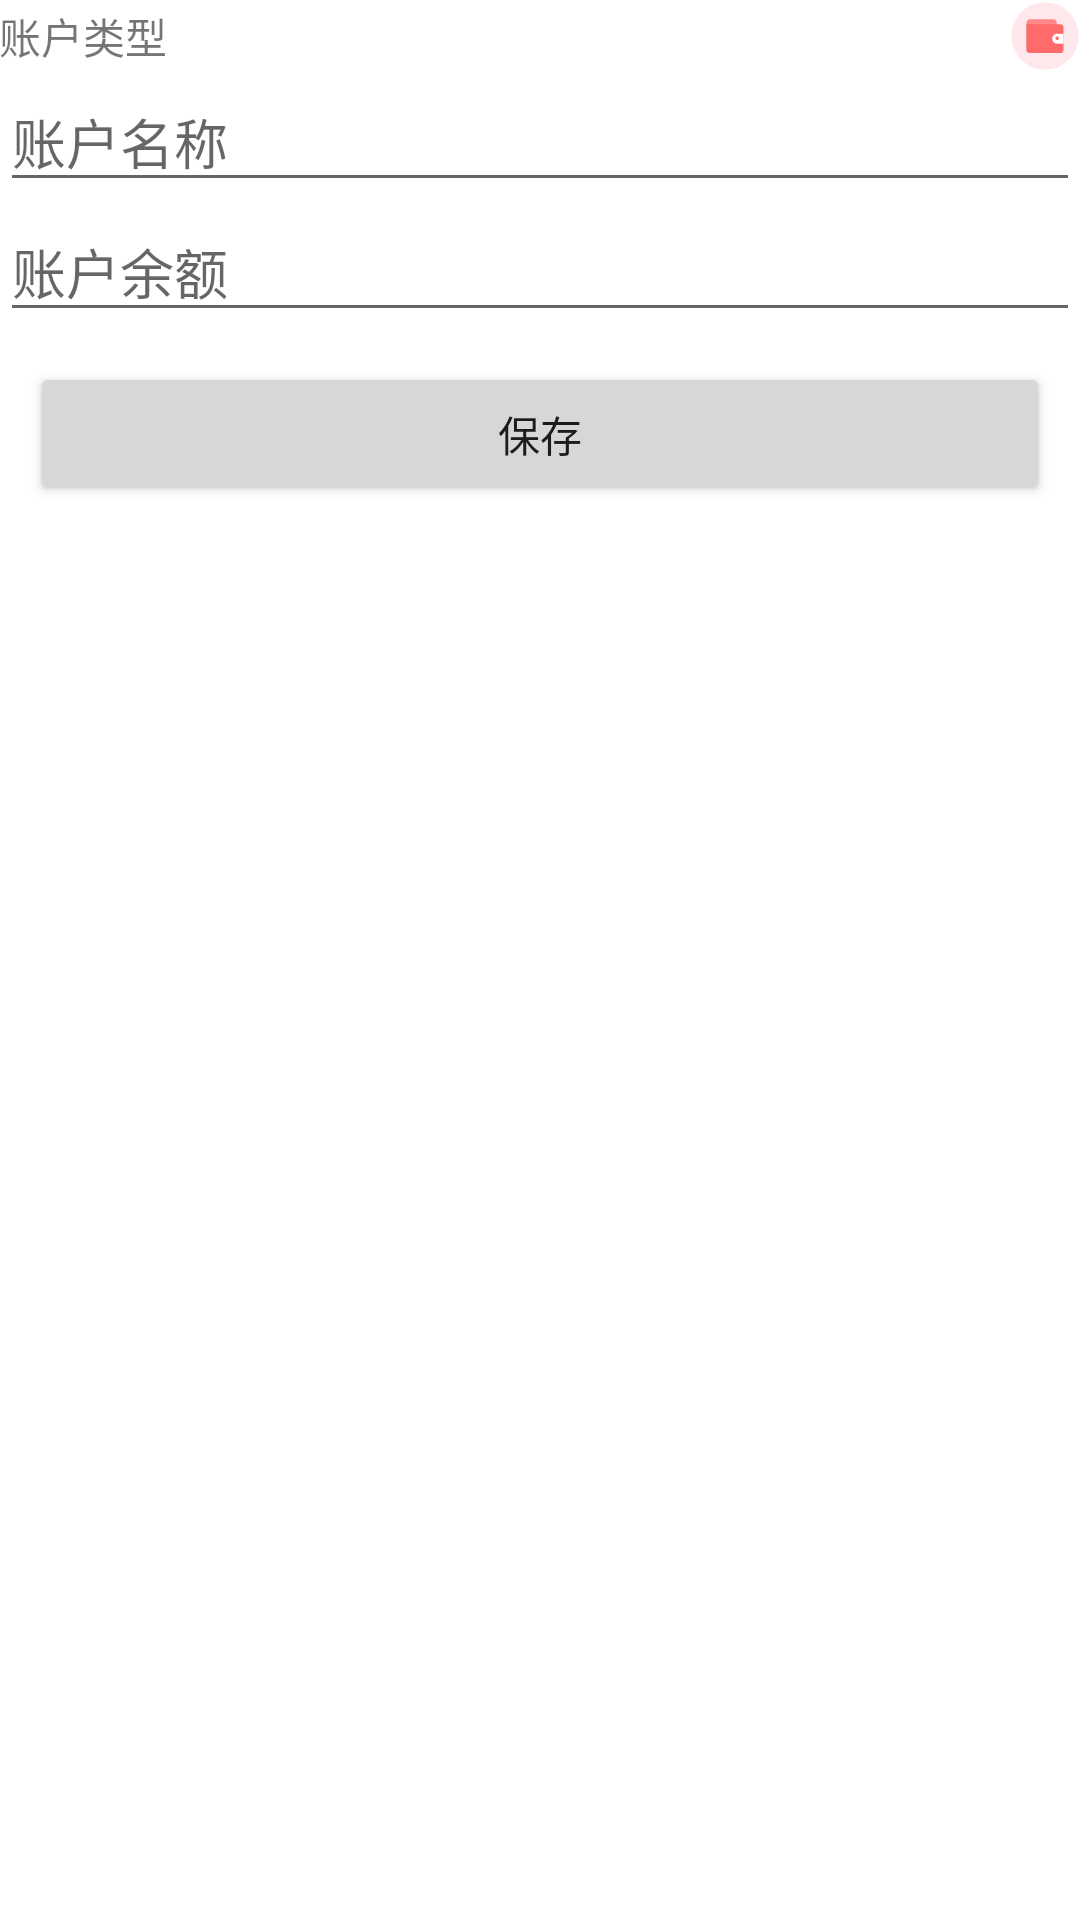

Locate icon controls on the screen. Image size 1080x1920, boxes as (x1,y1,x2,y2).
other acc: (1026,19,1064,53)
